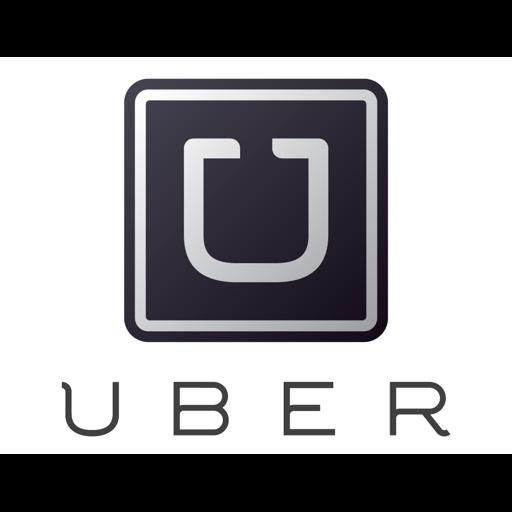Uber: (0, 57, 512, 454)
